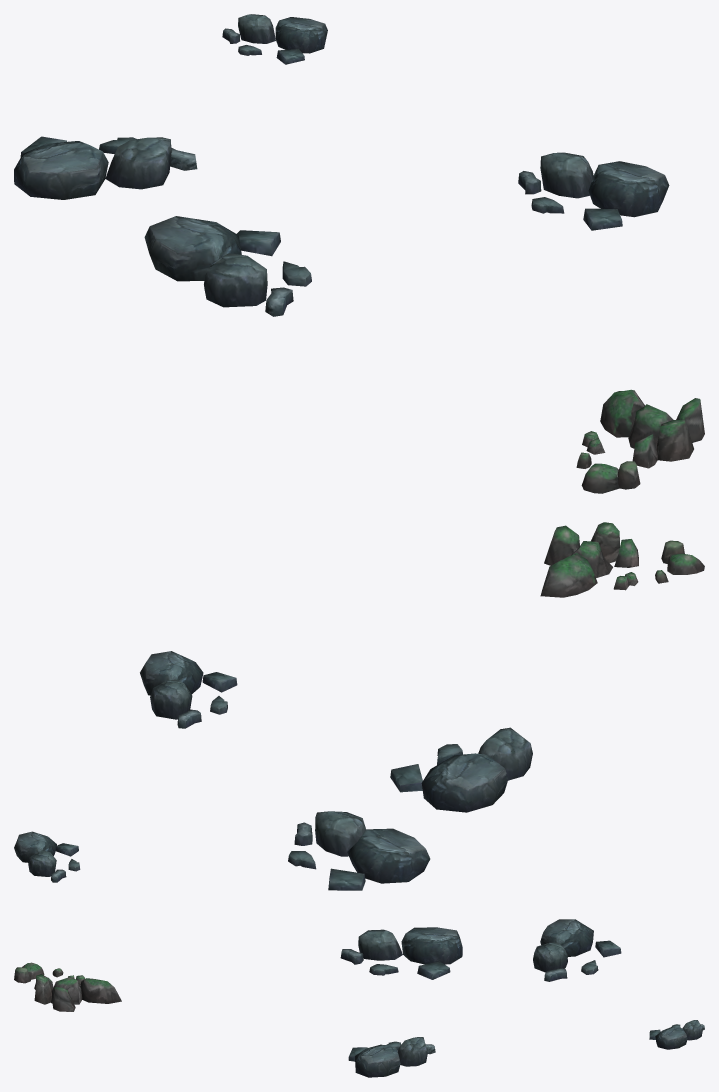
Rendered from Area_08_11.fbx.
The picture shows the model from 3 angles, top to bottom: view 1: azimuth 30°, elevation 25°; view 2: azimuth 150°, elevation 25°; view 3: azimuth 270°, elevation 25°; orthographic projection. The views are drawn at different scales.
Parts seen in each view (by area): view 1: Area_08_11; view 2: Area_08_11; view 3: Area_08_11.
Part boxes in pixels (box(x1,y1,x2,y2)): Area_08_11: box(14, 14, 704, 493); Area_08_11: box(14, 522, 704, 890); Area_08_11: box(14, 919, 704, 1077).
Size of the model in its own units: 3226 by 259 by 6568.
